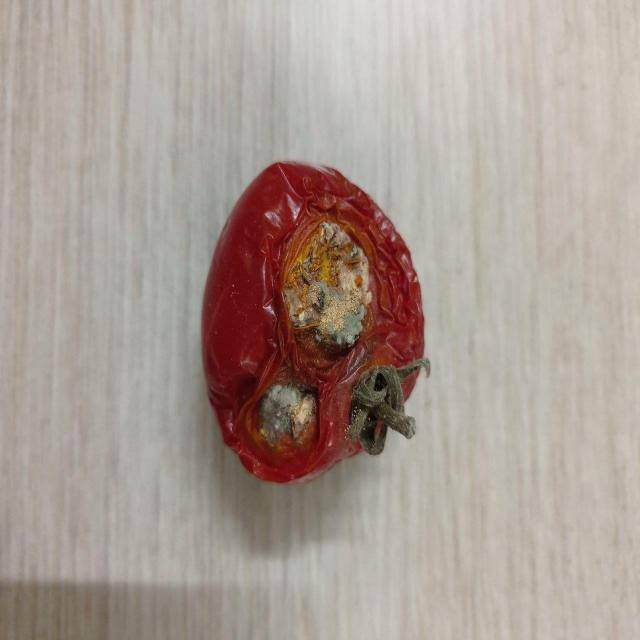Rotten: (200, 158, 427, 488)
